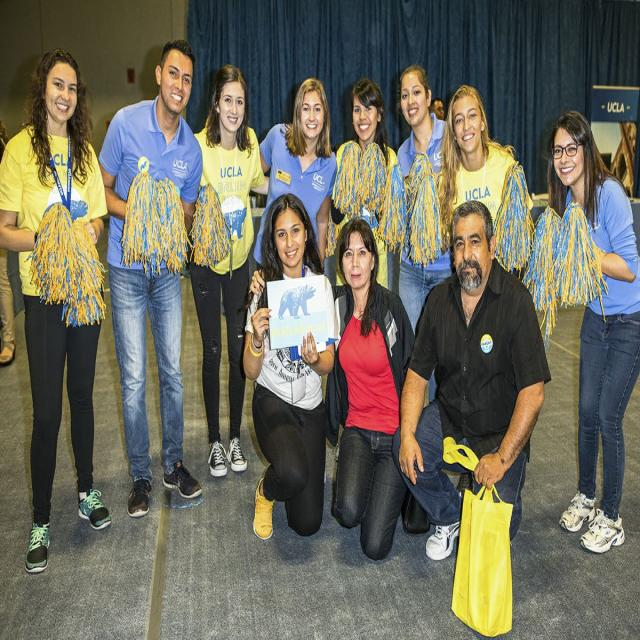body: (396, 197, 553, 638), (0, 43, 115, 578), (247, 218, 416, 562), (88, 35, 206, 521), (542, 107, 640, 556), (239, 190, 340, 542), (192, 62, 271, 480), (411, 84, 537, 310), (396, 62, 454, 406), (328, 75, 406, 296), (253, 76, 338, 274), (1, 115, 22, 371), (428, 96, 446, 122)
